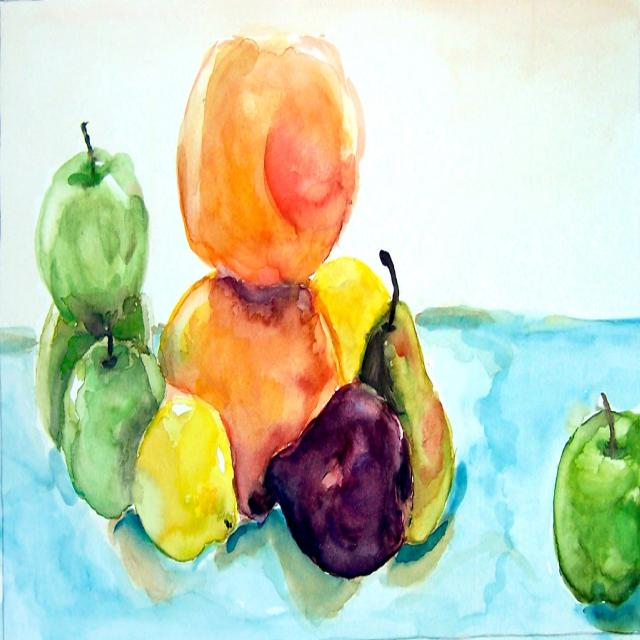apple: (61, 336, 172, 520), (37, 143, 151, 321), (553, 405, 640, 606)
pear: (357, 248, 455, 544)
